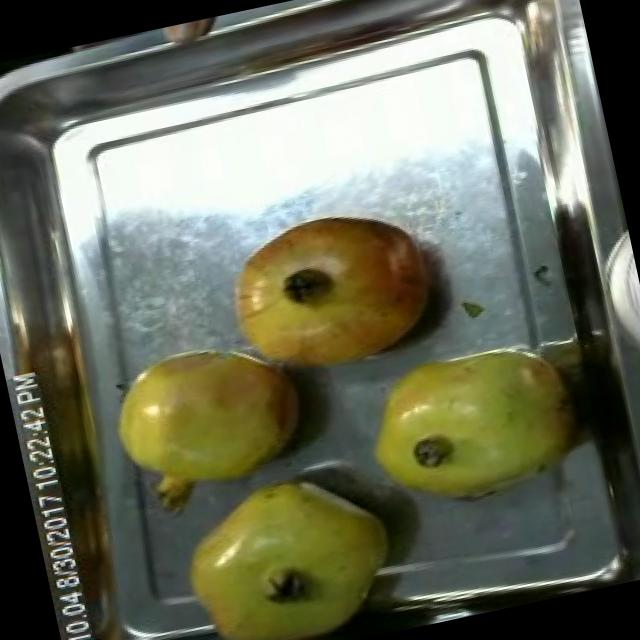fruit: (331, 310, 607, 541), (156, 444, 418, 640), (92, 316, 330, 530), (208, 194, 448, 398), (138, 12, 236, 57)
